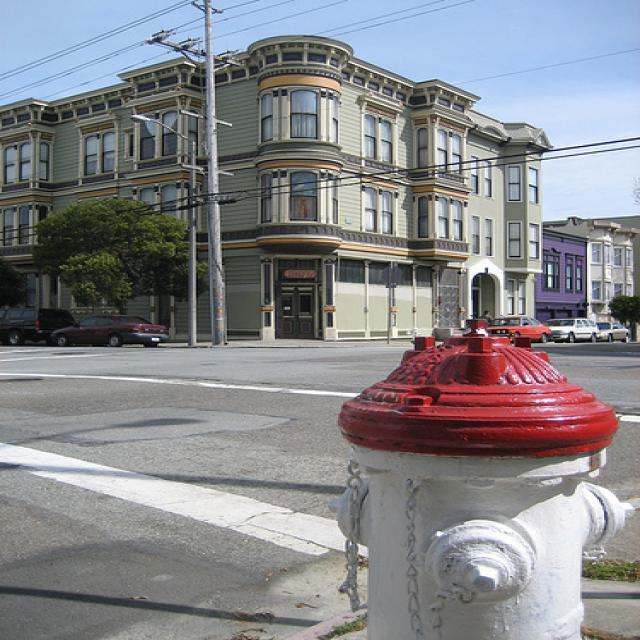fire_hydrant: (336, 318, 633, 632)
